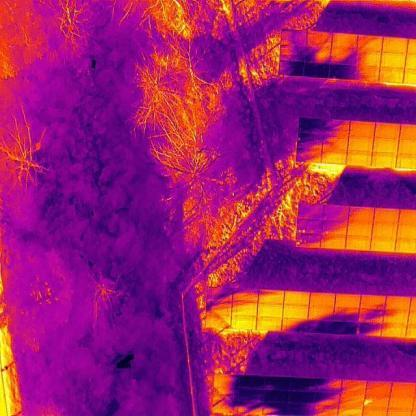Diode: (364, 394, 389, 407)
Hotspot: (298, 218, 322, 235), (321, 220, 348, 235), (296, 234, 322, 248)
Normal: (382, 37, 408, 54), (380, 323, 408, 338), (348, 137, 374, 153), (320, 234, 346, 250), (332, 32, 358, 48), (373, 209, 400, 224), (378, 68, 405, 83), (375, 123, 400, 139), (282, 292, 310, 306), (348, 207, 374, 222), (232, 303, 258, 318), (380, 53, 406, 68), (372, 152, 396, 168), (345, 236, 372, 250), (388, 394, 415, 408), (373, 138, 398, 153), (321, 151, 347, 165), (347, 222, 373, 236), (372, 223, 398, 237), (334, 294, 362, 307), (384, 297, 410, 311), (232, 316, 258, 330), (256, 318, 282, 332), (350, 122, 374, 137), (309, 294, 336, 307), (370, 236, 395, 250), (366, 381, 392, 394), (339, 392, 365, 405), (348, 152, 372, 166), (258, 306, 284, 318), (341, 380, 367, 392), (338, 404, 364, 416), (394, 237, 416, 251), (391, 383, 416, 395), (282, 307, 309, 318)
Shadow: (330, 48, 358, 66), (300, 116, 326, 134), (306, 46, 332, 64), (281, 44, 306, 62), (294, 147, 322, 163), (329, 64, 356, 80), (282, 29, 307, 46), (296, 134, 324, 149), (232, 288, 260, 303), (307, 307, 335, 322), (356, 36, 382, 52), (326, 120, 350, 137), (334, 307, 361, 322), (303, 63, 330, 78), (299, 203, 324, 219), (307, 30, 332, 46), (279, 60, 304, 76), (257, 291, 285, 305), (382, 309, 410, 323), (280, 318, 308, 332), (324, 136, 348, 152), (355, 66, 379, 82), (206, 288, 233, 302), (360, 296, 387, 310), (289, 377, 316, 391), (358, 310, 384, 324), (238, 376, 264, 390), (316, 378, 342, 392), (356, 52, 380, 67), (307, 321, 334, 334), (237, 390, 264, 403), (207, 302, 232, 316), (265, 376, 290, 390), (356, 324, 382, 337), (324, 206, 348, 220), (238, 403, 266, 415), (333, 322, 358, 335), (289, 392, 316, 404), (206, 316, 232, 328), (264, 391, 288, 404), (289, 404, 315, 416), (214, 388, 239, 400), (315, 392, 340, 404), (213, 401, 238, 413), (314, 404, 339, 416), (214, 376, 238, 388), (265, 404, 289, 415)
